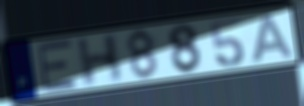5: (209, 16, 246, 69)
8: (166, 23, 204, 74), (125, 28, 162, 80)
A: (251, 12, 296, 65)
E: (36, 38, 81, 94)
H: (75, 31, 124, 89)
